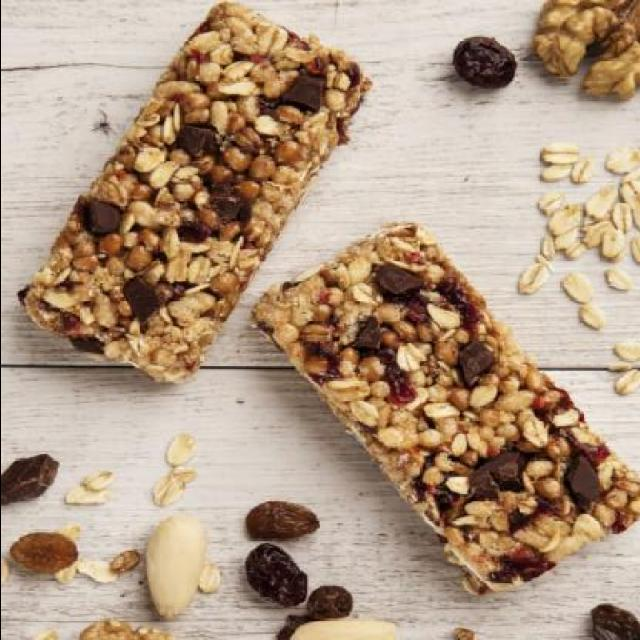Cereal bar packaged: (252, 228, 640, 590), (17, 4, 365, 384)
